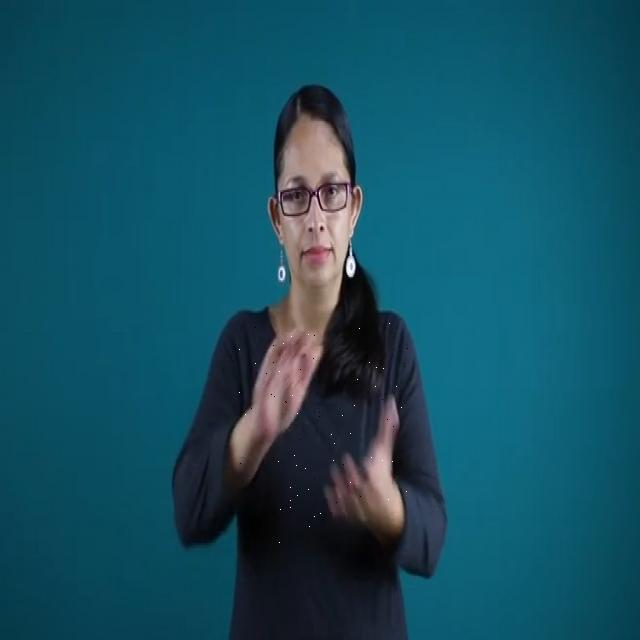burger: (238, 310, 408, 544)
